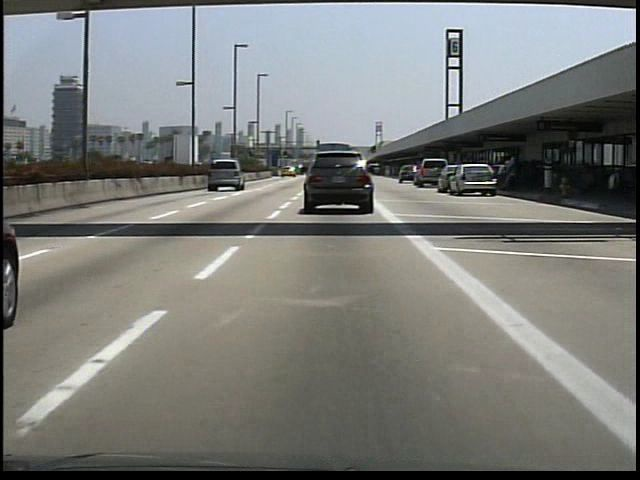person: (504, 151, 527, 192)
